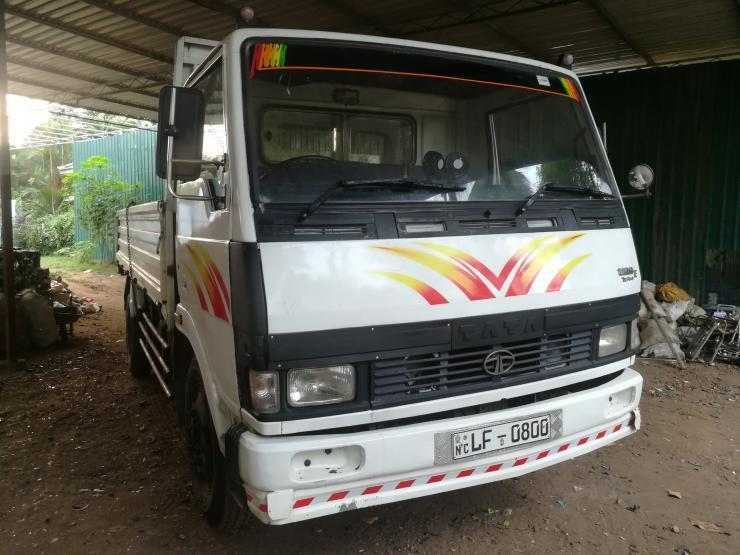truck: (115, 27, 654, 527)
